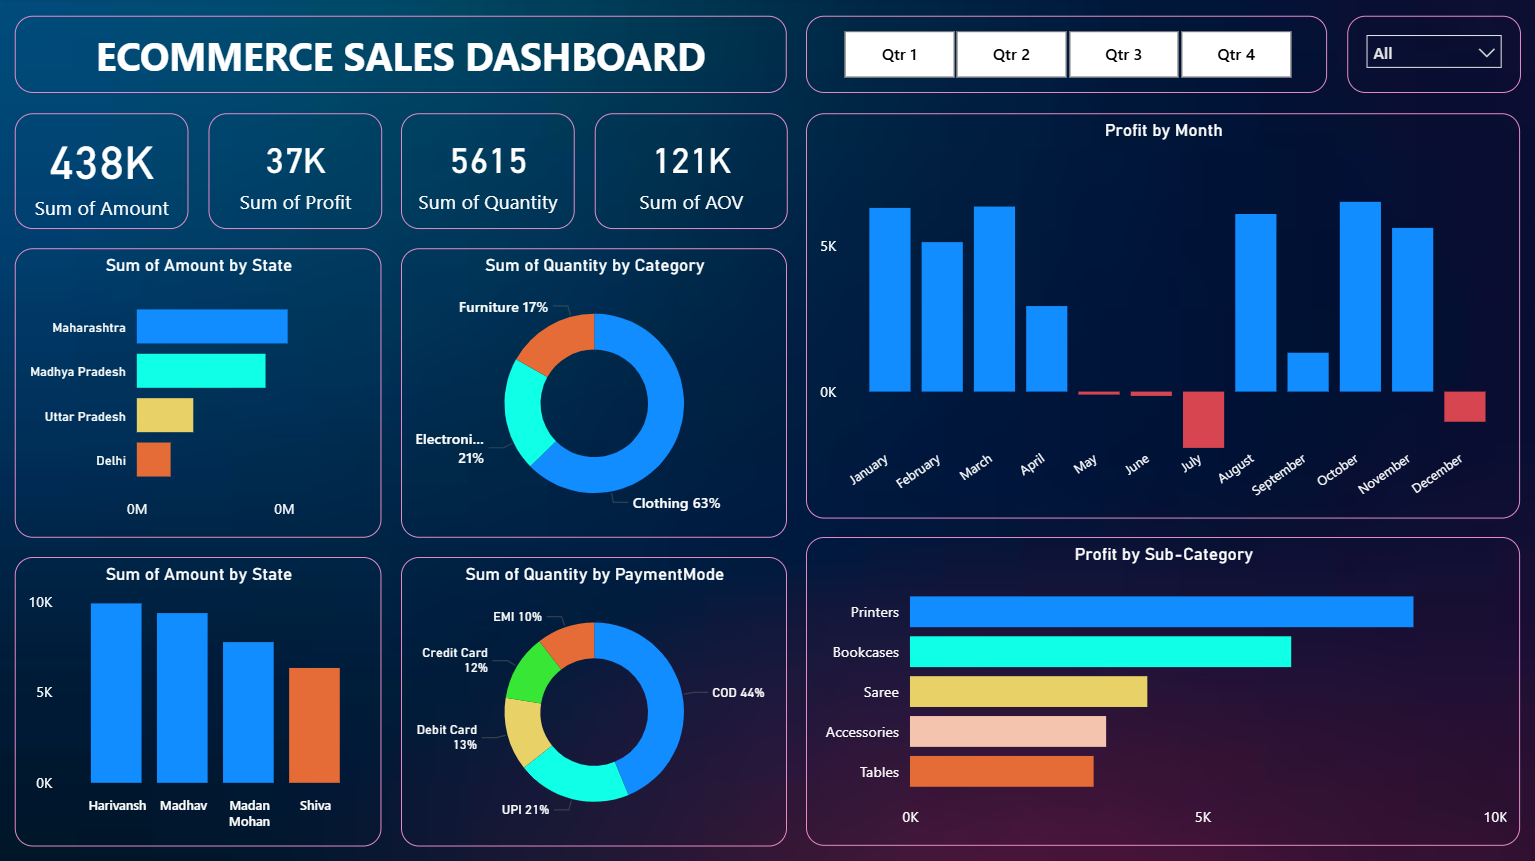

The page's visual inventory and layout, read from the dashboard file:
{"tool":"powerbi","page":{"name":"Page 1","canvas":[1280,720],"ordinal":0},"visuals":[{"type":"textbox","box":[16,16,640,64],"z":0},{"type":"columnChart","title":"Profit by Month","fields":{"Y":["Sum(Details.Profit)"],"Category":["Orders.Order Date.Variation.Date Hierarchy.Month"]},"box":[672,96,592,336],"z":1000},{"type":"barChart","title":"Profit by Sub-Category","fields":{"Category":["Details.Sub-Category"],"Y":["Sum(Details.Profit)"]},"box":[672,448,592,256],"z":2000},{"type":"donutChart","fields":{"Category":["Details.Category"],"Y":["Sum(Details.Quantity)"]},"box":[336,208,320,240],"z":3000},{"type":"donutChart","fields":{"Y":["Sum(Details.Quantity)"],"Category":["Details.PaymentMode"]},"box":[336,464,320,240],"z":4000},{"type":"card","fields":{"Values":["Sum(Details.Amount)"]},"box":[16,96,144,96],"z":5000},{"type":"card","fields":{"Values":["Sum(Details.Quantity)"]},"box":[336,96,144,96],"z":6000},{"type":"card","fields":{"Values":["Sum(Details.Profit)"]},"box":[176,96,144,96],"z":7000},{"type":"card","fields":{"Values":["Sum(Details.AOV)"]},"box":[496,96,160,96],"z":8000},{"type":"barChart","title":"Sum of Amount by State","fields":{"Category":["Orders.State"],"Y":["Sum(Details.Amount)"]},"box":[16,208,304,240],"z":9000},{"type":"columnChart","title":"Sum of Amount by State","fields":{"Category":["Orders.CustomerName"],"Y":["Sum(Details.Amount)"]},"box":[16,464,304,240],"z":10000},{"type":"slicer","fields":{"Values":["Orders.Order Date.Variation.Date Hierarchy.Quarter"]},"box":[672,16,432,64],"z":11000},{"type":"slicer","fields":{"Values":["Orders.State"]},"box":[1120,16,144,64],"z":12000}]}

Visuals, with their boxes in screenshot pixels (x1, y1, x2, y2), scaled from the page's 1280x720 canvas onto the 1535x861 screenshot:
textbox: (x1=19, y1=19, x2=787, y2=96)
"Profit by Month" columnChart: (x1=806, y1=115, x2=1516, y2=517)
"Profit by Sub-Category" barChart: (x1=806, y1=536, x2=1516, y2=842)
donutChart - Details.Category x Sum(Details.Quantity): (x1=403, y1=249, x2=787, y2=536)
donutChart - Sum(Details.Quantity) x Details.PaymentMode: (x1=403, y1=555, x2=787, y2=842)
card - Sum(Details.Amount): (x1=19, y1=115, x2=192, y2=230)
card - Sum(Details.Quantity): (x1=403, y1=115, x2=576, y2=230)
card - Sum(Details.Profit): (x1=211, y1=115, x2=384, y2=230)
card - Sum(Details.AOV): (x1=595, y1=115, x2=787, y2=230)
"Sum of Amount by State" barChart: (x1=19, y1=249, x2=384, y2=536)
"Sum of Amount by State" columnChart: (x1=19, y1=555, x2=384, y2=842)
slicer - Orders.Order Date.Variation.Date Hierarchy.Quarter: (x1=806, y1=19, x2=1324, y2=96)
slicer - Orders.State: (x1=1343, y1=19, x2=1516, y2=96)
